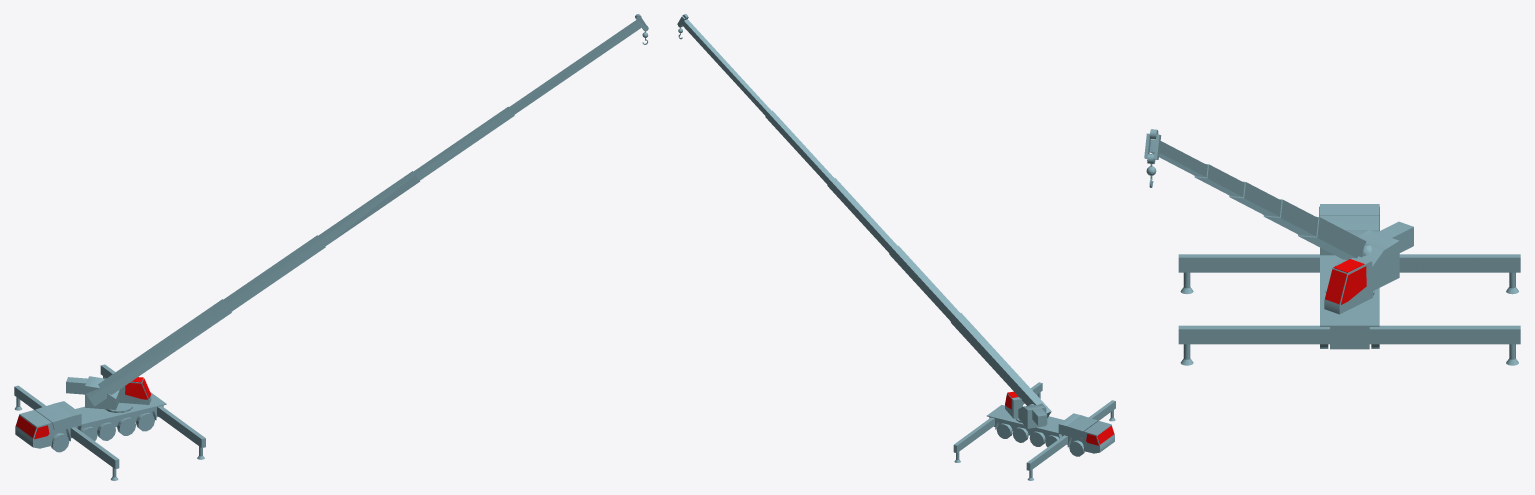
The model's file is Crane-Land-On Wheel type.glb.
3 renders of one model, left to right at view 1: azimuth 30°, elevation 25°; view 2: azimuth 150°, elevation 25°; view 3: azimuth 270°, elevation 25°, orthographic. The views are drawn at different scales.
Parts seen in each view (by area): view 1: Subentity, 3D Solid.006, Subentity.002, 3D Solid.012, 3D Solid.002, 3D Solid.011, 3D Solid.010; view 2: Subentity, 3D Solid.006, 3D Solid.012, 3D Solid.002, 3D Solid.011, Subentity.002, 3D Solid.010, Subentity.015, Subentity.016; view 3: Subentity, Subentity.002, Subentity.006, Subentity.015, Subentity.019, Subentity.016, 3D Solid.006, 3D Solid.002, 3D Solid.012, 3D Solid.011, 3D Solid.010.
Part boxes in pixels (x1,y1,x2,y2): Subentity: [15, 392, 166, 452]; 3D Solid.006: [86, 299, 231, 406]; Subentity.002: [66, 376, 151, 412]; 3D Solid.012: [223, 235, 325, 311]; 3D Solid.002: [509, 14, 648, 114]; 3D Solid.011: [318, 171, 419, 246]; 3D Solid.010: [413, 106, 514, 180]; Subentity: [987, 405, 1114, 456]; 3D Solid.006: [951, 313, 1051, 417]; 3D Solid.012: [889, 245, 959, 321]; 3D Solid.002: [677, 14, 770, 115]; 3D Solid.011: [827, 178, 897, 253]; Subentity.002: [1005, 391, 1047, 428]; 3D Solid.010: [765, 110, 834, 184]; Subentity.015: [953, 417, 994, 452]; Subentity.016: [1026, 435, 1067, 470]; Subentity: [1320, 204, 1379, 349]; Subentity.002: [1324, 221, 1413, 314]; Subentity.006: [1178, 325, 1329, 344]; Subentity.015: [1369, 325, 1520, 344]; Subentity.019: [1178, 254, 1319, 272]; Subentity.016: [1399, 254, 1520, 272]; 3D Solid.006: [1298, 216, 1366, 259]; 3D Solid.002: [1144, 129, 1207, 177]; 3D Solid.012: [1263, 199, 1318, 237]; 3D Solid.011: [1229, 181, 1281, 216]; 3D Solid.010: [1194, 164, 1244, 196].
Size of the model in its own units: 50.95 by 29.81 by 17.36.
